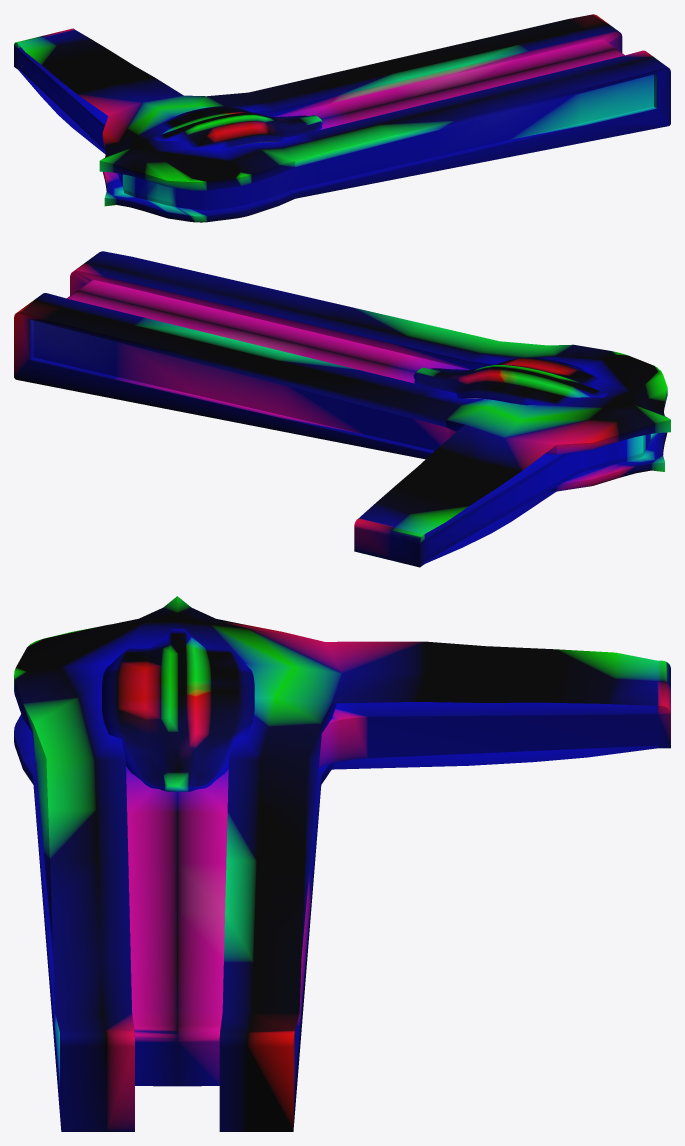
Rendered from ff_cruiser_1.fbx.
3 renders of one model, top to bottom at view 1: azimuth 30°, elevation 25°; view 2: azimuth 150°, elevation 25°; view 3: azimuth 270°, elevation 25°, orthographic. The views are drawn at different scales.
Visible parts, largest first — view 1: ff_cruiser_3; view 2: ff_cruiser_3; view 3: ff_cruiser_3.
Part boxes in pixels (bbox=[...]): ff_cruiser_3: bbox=[14, 14, 670, 222]; ff_cruiser_3: bbox=[14, 251, 670, 567]; ff_cruiser_3: bbox=[14, 596, 670, 1131].
Size of the model in its own units: 2260 by 330 by 1479.
